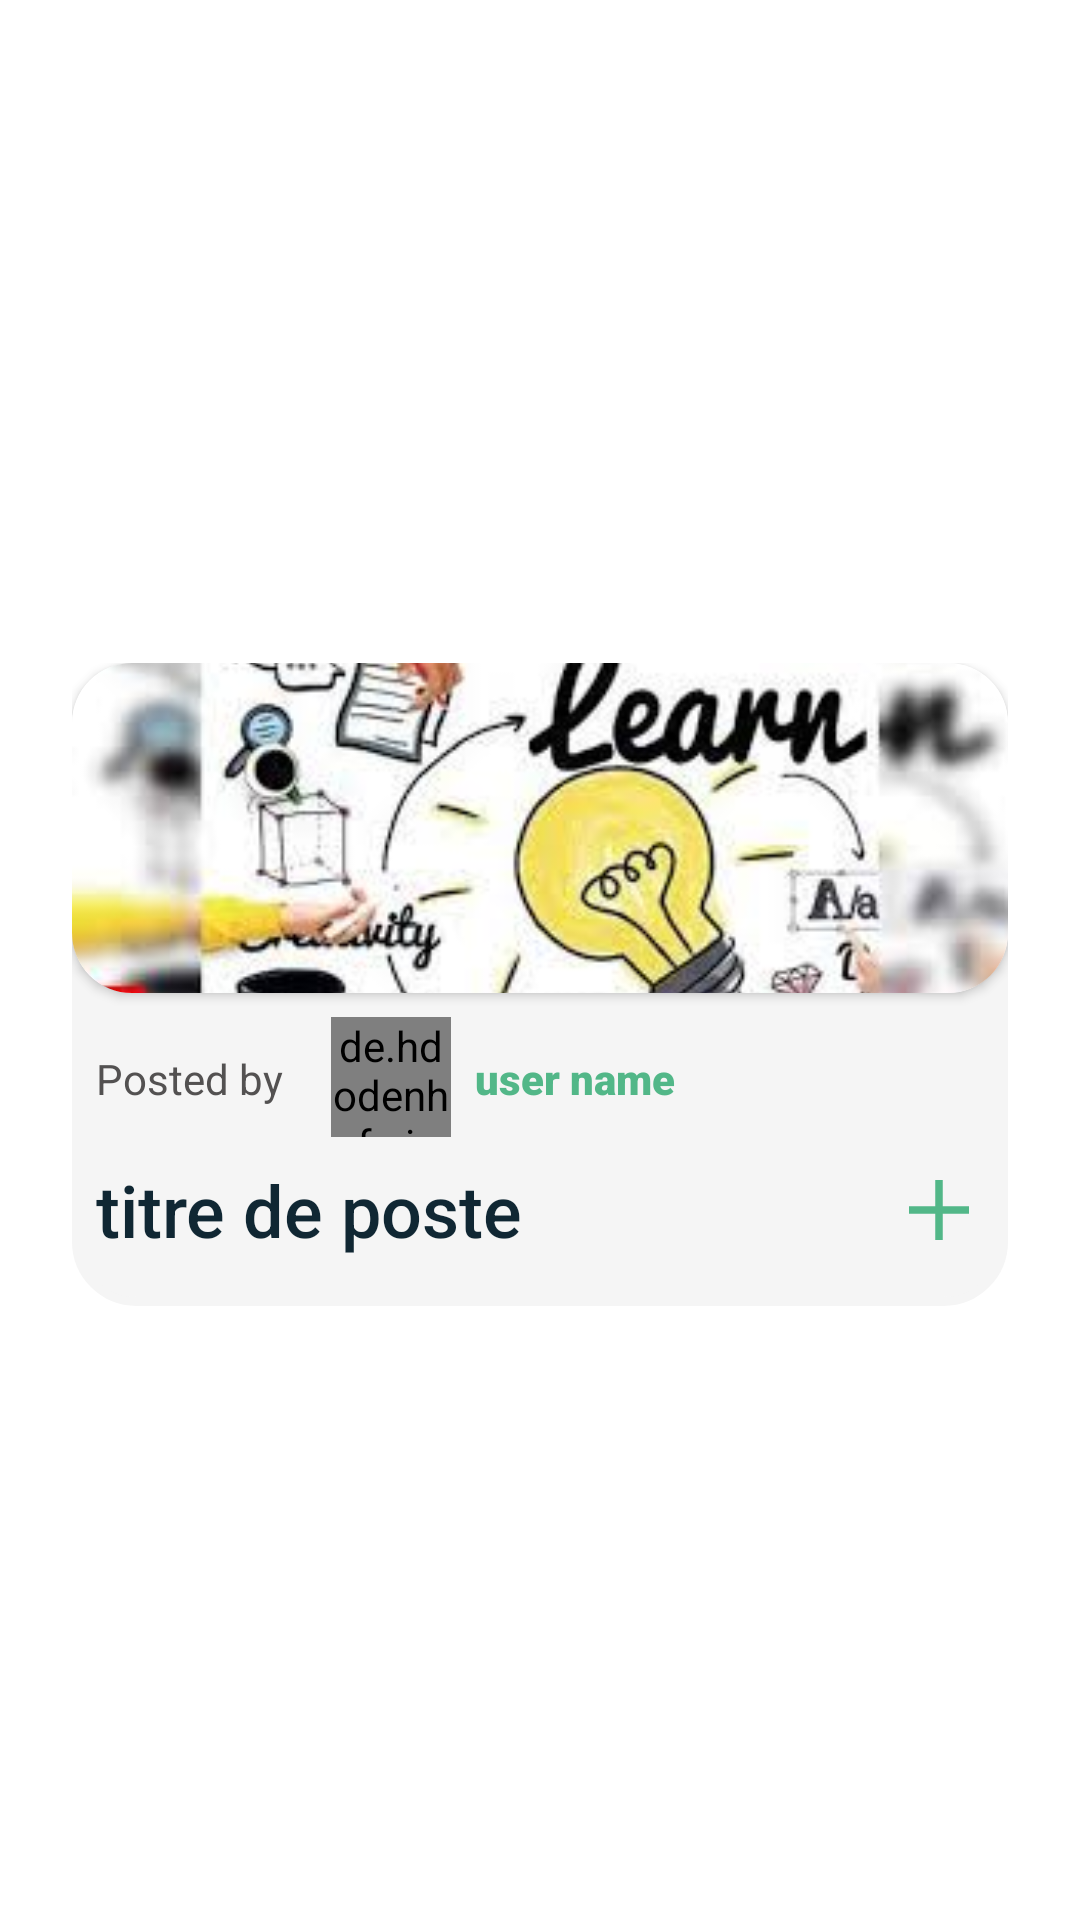

Icons on this 1080*1920 Android screen, each with its box as [x1, y1, x2, y2]:
add: [909, 1180, 969, 1240]
